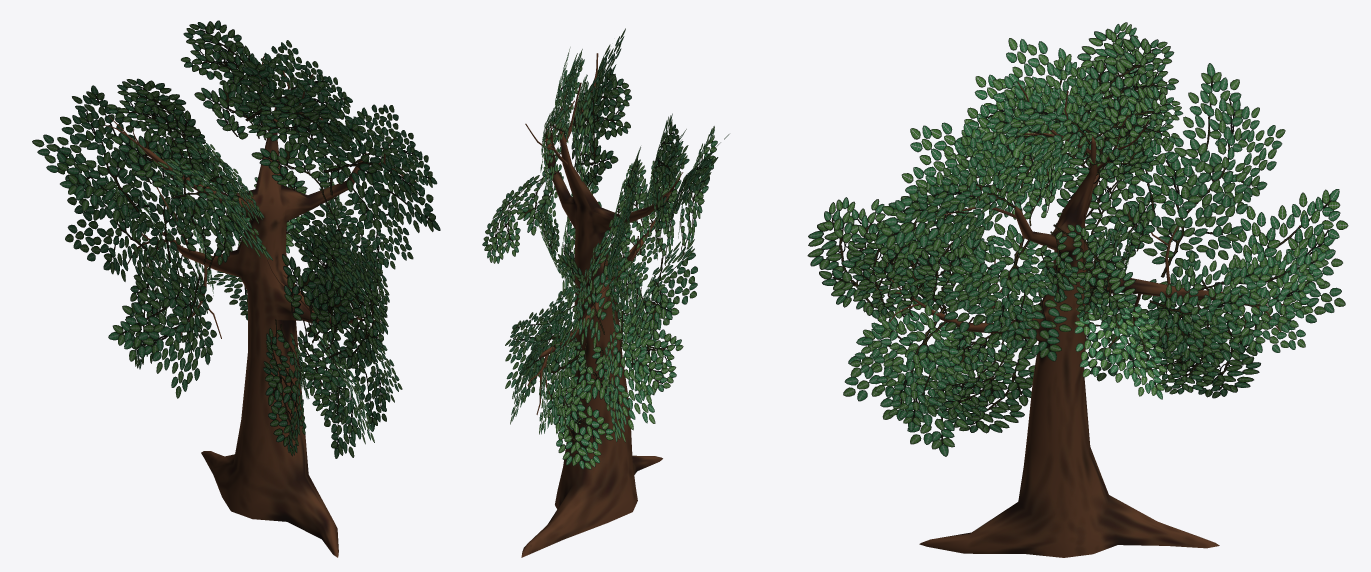
File: arbol5bosque.fbx
The picture shows the model from 3 angles, left to right: view 1: azimuth 30°, elevation 25°; view 2: azimuth 150°, elevation 25°; view 3: azimuth 270°, elevation 25°; orthographic projection. The views are drawn at different scales.
Visible parts, largest first — view 1: tronco_Group3, hojasbosque_pPlane34, hojasbosque_pPlane41, hojasbosque_pPlane33, hojasbosque_pPlane30, hojasbosque_pPlane25, hojasbosque_pPlane31, hojasbosque_pPlane39, hojasbosque_pPlane37, hojasbosque_pPlane27, hojasbosque_pPlane36, hojasbosque_pPlane26 (+18 smaller); view 2: tronco_Group3, hojasbosque_pPlane29, hojasbosque_pPlane34, hojasbosque_pPlane26, hojasbosque_pPlane9, hojasbosque_pPlane25, hojasbosque_pPlane35, hojasbosque_pPlane19, hojasbosque_pPlane36, hojasbosque_pPlane38, hojasbosque_pPlane30, hojasbosque_pPlane12 (+21 smaller); view 3: tronco_Group3, hojasbosque_pPlane35, hojasbosque_pPlane41, hojasbosque_pPlane36, hojasbosque_pPlane19, hojasbosque_pPlane22, hojasbosque_pPlane33, hojasbosque_pPlane21, hojasbosque_pPlane17, hojasbosque_pPlane16, hojasbosque_pPlane20, hojasbosque_pPlane32 (+21 smaller).
Part boxes in pixels (left/top/right/bottom): tronco_Group3: left=140, top=107, right=366, bottom=557; hojasbosque_pPlane34: left=108, top=266, right=216, bottom=398; hojasbosque_pPlane41: left=32, top=85, right=151, bottom=221; hojasbosque_pPlane33: left=316, top=118, right=440, bottom=232; hojasbosque_pPlane30: left=106, top=78, right=205, bottom=194; hojasbosque_pPlane25: left=247, top=96, right=353, bottom=195; hojasbosque_pPlane31: left=181, top=20, right=271, bottom=140; hojasbosque_pPlane39: left=312, top=263, right=388, bottom=367; hojasbosque_pPlane37: left=230, top=54, right=366, bottom=160; hojasbosque_pPlane27: left=282, top=224, right=353, bottom=343; hojasbosque_pPlane36: left=54, top=144, right=146, bottom=281; hojasbosque_pPlane26: left=263, top=319, right=309, bottom=456; tronco_Group3: left=521, top=128, right=671, bottom=557; hojasbosque_pPlane29: left=552, top=343, right=617, bottom=469; hojasbosque_pPlane34: left=602, top=311, right=655, bottom=442; hojasbosque_pPlane26: left=623, top=280, right=683, bottom=396; hojasbosque_pPlane9: left=482, top=175, right=552, bottom=263; hojasbosque_pPlane25: left=571, top=68, right=631, bottom=186; hojasbosque_pPlane35: left=575, top=202, right=631, bottom=348; hojasbosque_pPlane19: left=505, top=300, right=577, bottom=388; hojasbosque_pPlane36: left=539, top=308, right=578, bottom=434; hojasbosque_pPlane38: left=632, top=239, right=697, bottom=365; hojasbosque_pPlane30: left=652, top=113, right=679, bottom=231; hojasbosque_pPlane12: left=537, top=206, right=587, bottom=298; tronco_Group3: left=919, top=136, right=1241, bottom=557; hojasbosque_pPlane35: left=1107, top=139, right=1247, bottom=277; hojasbosque_pPlane41: left=1161, top=63, right=1285, bottom=220; hojasbosque_pPlane36: left=1215, top=189, right=1348, bottom=331; hojasbosque_pPlane19: left=1149, top=251, right=1263, bottom=362; hojasbosque_pPlane22: left=850, top=304, right=964, bottom=431; hojasbosque_pPlane33: left=875, top=122, right=1016, bottom=258; hojasbosque_pPlane21: left=989, top=57, right=1109, bottom=170; hojasbosque_pPlane17: left=904, top=136, right=1028, bottom=244; hojasbosque_pPlane16: left=946, top=229, right=1052, bottom=347; hojasbosque_pPlane20: left=1212, top=243, right=1326, bottom=352; hojasbosque_pPlane32: left=944, top=223, right=1081, bottom=361.
Size of the model in its own units: 5.74 by 11.26 by 11.31.
